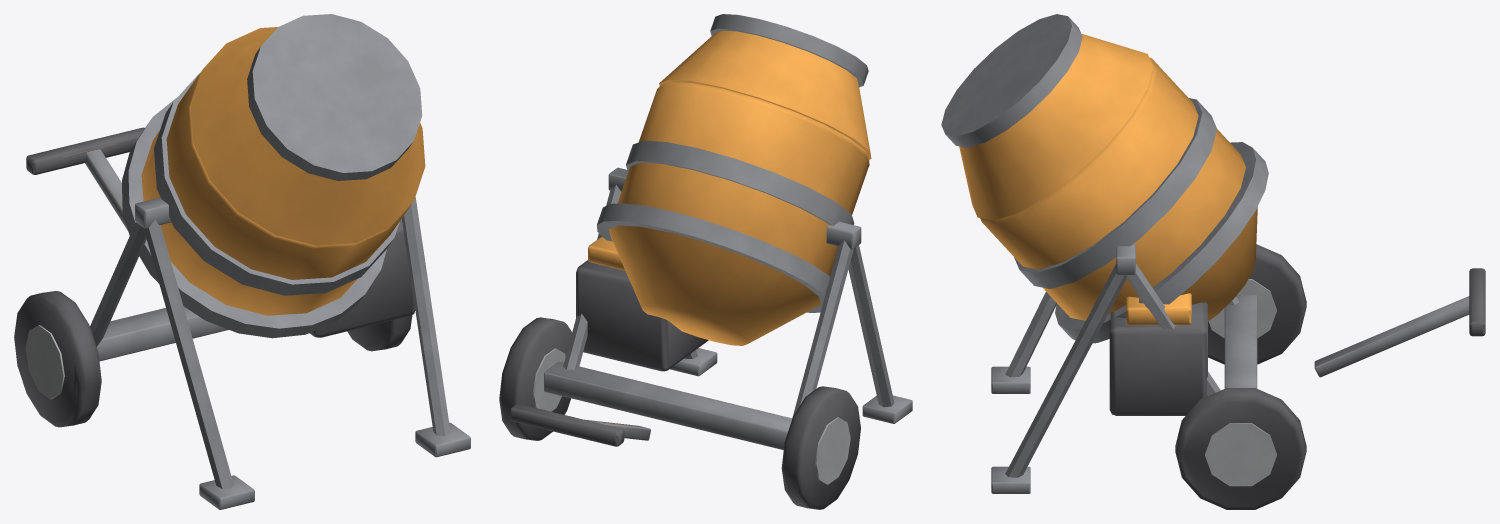
Rendered from Works_CementMixer.fbx.
3 views of the same model, side by side, from view 1: azimuth 30°, elevation 25°; view 2: azimuth 150°, elevation 25°; view 3: azimuth 270°, elevation 25° (orthographic). The views are drawn at different scales.
Parts seen in each view (by area): view 1: Drum, Body; view 2: Drum, Body; view 3: Drum, Body.
Part boxes in pixels (bbox=[...]): Drum: bbox=[122, 14, 425, 338]; Body: bbox=[14, 127, 470, 509]; Drum: bbox=[596, 14, 871, 345]; Body: bbox=[499, 167, 912, 509]; Drum: bbox=[941, 14, 1268, 343]; Body: bbox=[991, 244, 1485, 509].
Size of the model in its own units: 1.13 by 1.38 by 1.66.
1 material, 1 textured.
